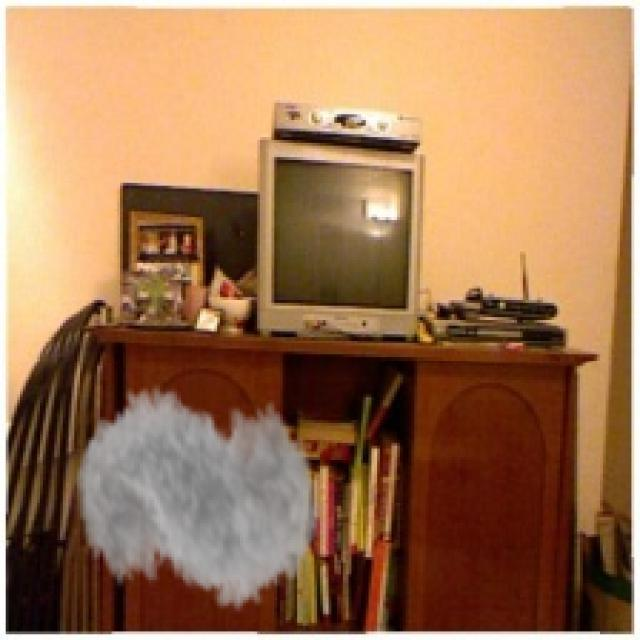Smoke: (74, 357, 320, 632)
